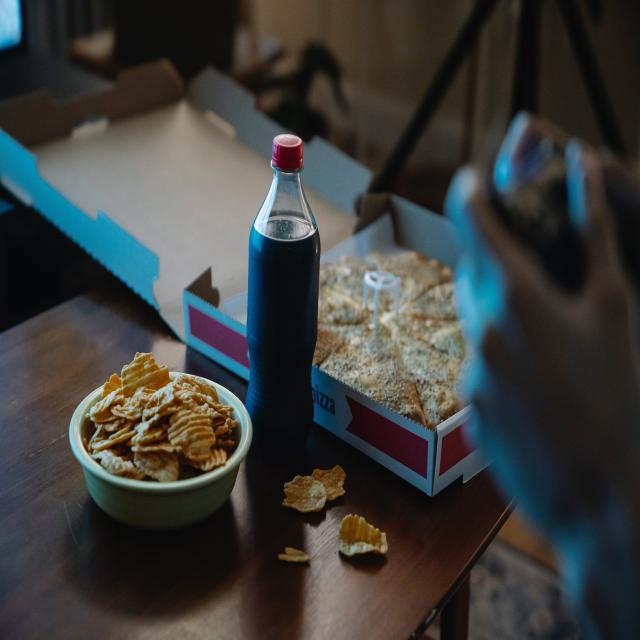bottle: (245, 129, 322, 466)
